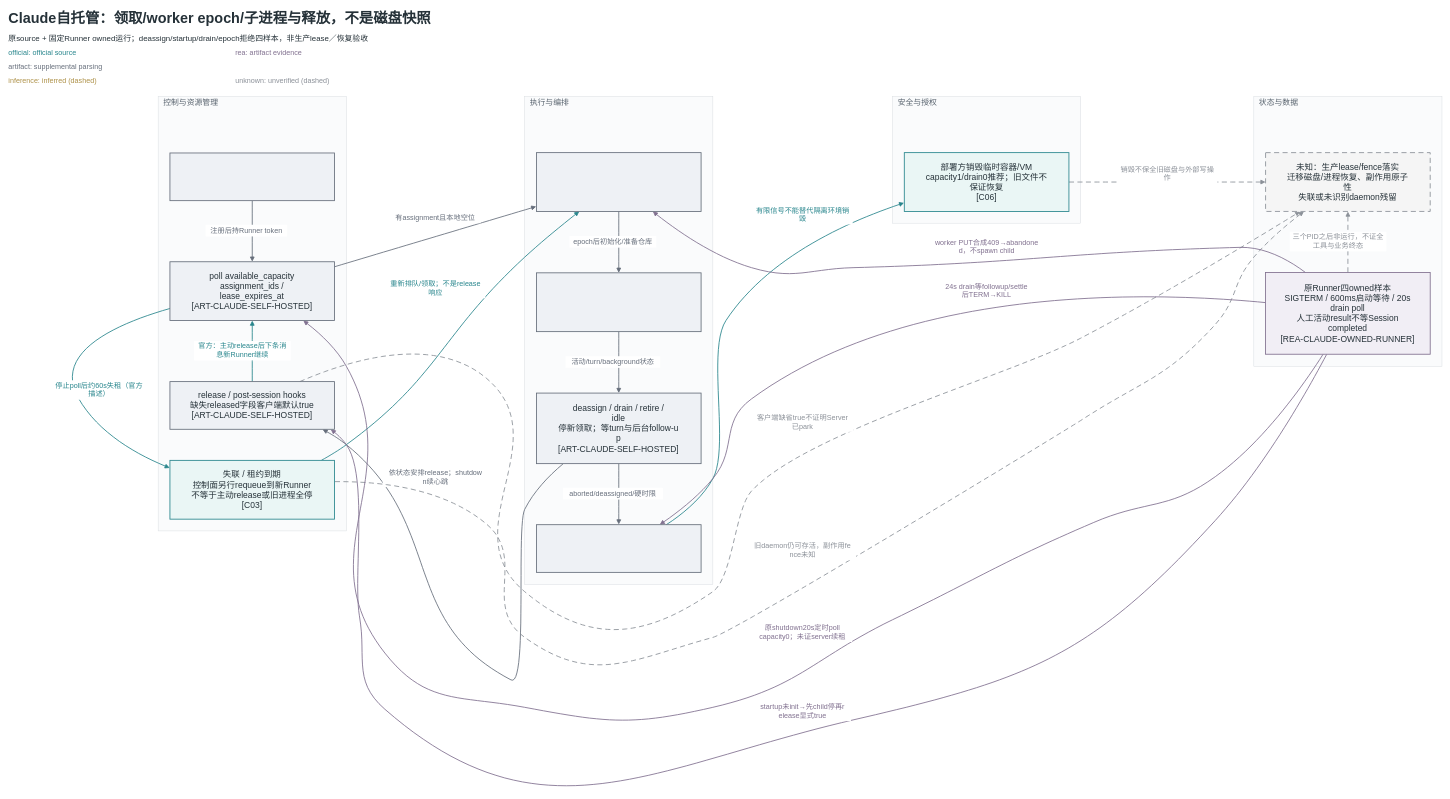
The diagram is 1450 pixels wide and 799 high, and some of its shapes have lost their labels. Each missing label, with the box of its shape:
Environment secret或work order 注册Runner→runner_token [ART-CLAUDE-SELF-HOSTED]: (169, 152, 335, 201)
Session token→remote配置 worker注册epoch / 预备事件/心跳 [ART-CLAUDE-SELF-HOSTED]: (536, 152, 701, 212)
准备仓库 / 启动Claude child FD3活动 / Session与inference token [ART-CLAUDE-SELF-HOSTED]: (536, 272, 701, 332)
必要时SIGTERM→SIGKILL 只有限身份约束后代清理 [ART-CLAUDE-SELF-HOSTED]: (536, 524, 701, 573)
